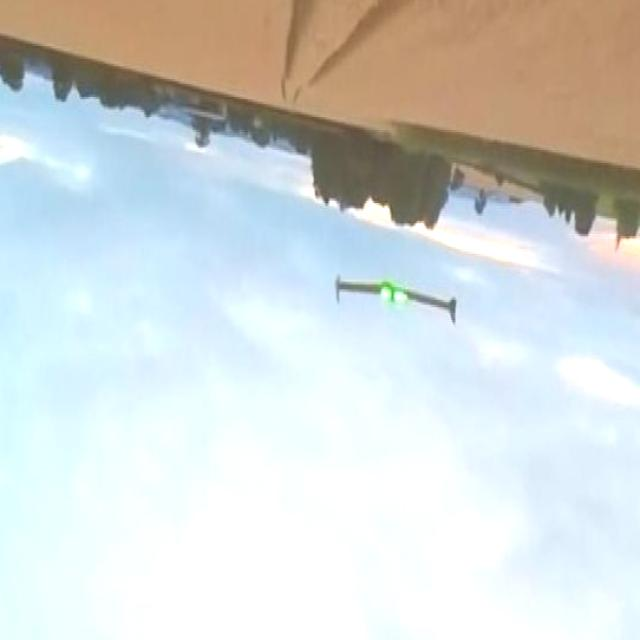plane: (333, 274, 458, 327)
